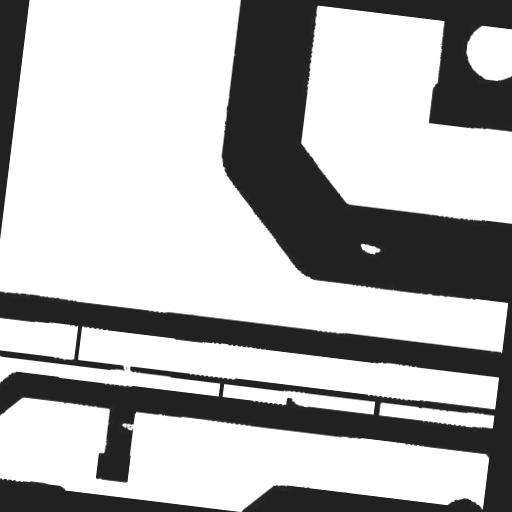mousebite: (113, 414, 142, 439)
open: (112, 354, 140, 384)
pin-hole: (350, 235, 388, 263)
short: (65, 314, 90, 370), (364, 390, 390, 428), (210, 372, 234, 407)
spur: (276, 389, 312, 420)
